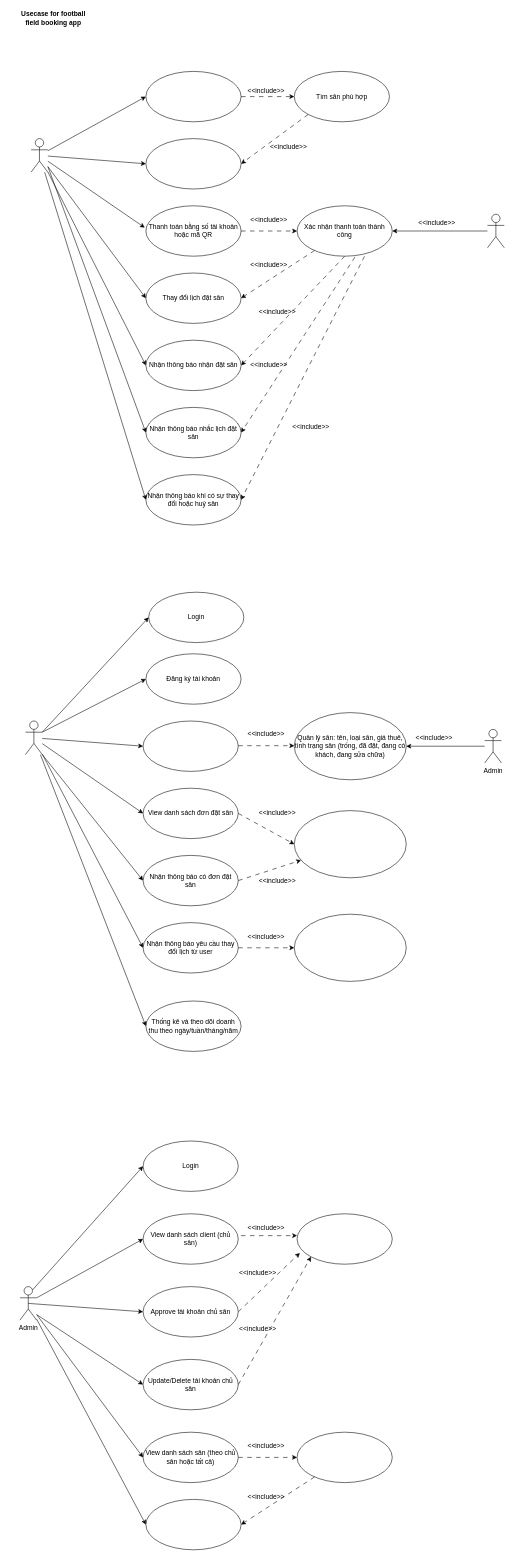
Some shapes in this 514 by 1560 pixel diagram are drawn without their labels. Here are the shapes that lost their labels. From the top down, the centre of each, then its label:
(193,96): View danh sách các sân theo vị trí, loại sân và thời gian
(39,155): User
(193,163): Đặt sân
(495,231): Client
(33,737): Client (Chủ sân)
(190,745): Đăng ký và chỉnh sửa hồ sơ các sân (tạo, sửa, xoá)
(350,844): Kiểm tra và approve đơn đặt
(350,947): Xác nhận và approve thay đổi
(344,1238): Quản lý chủ sân
(344,1457): Quản lý sân
(193,1524): Approve hồ sơ sân
